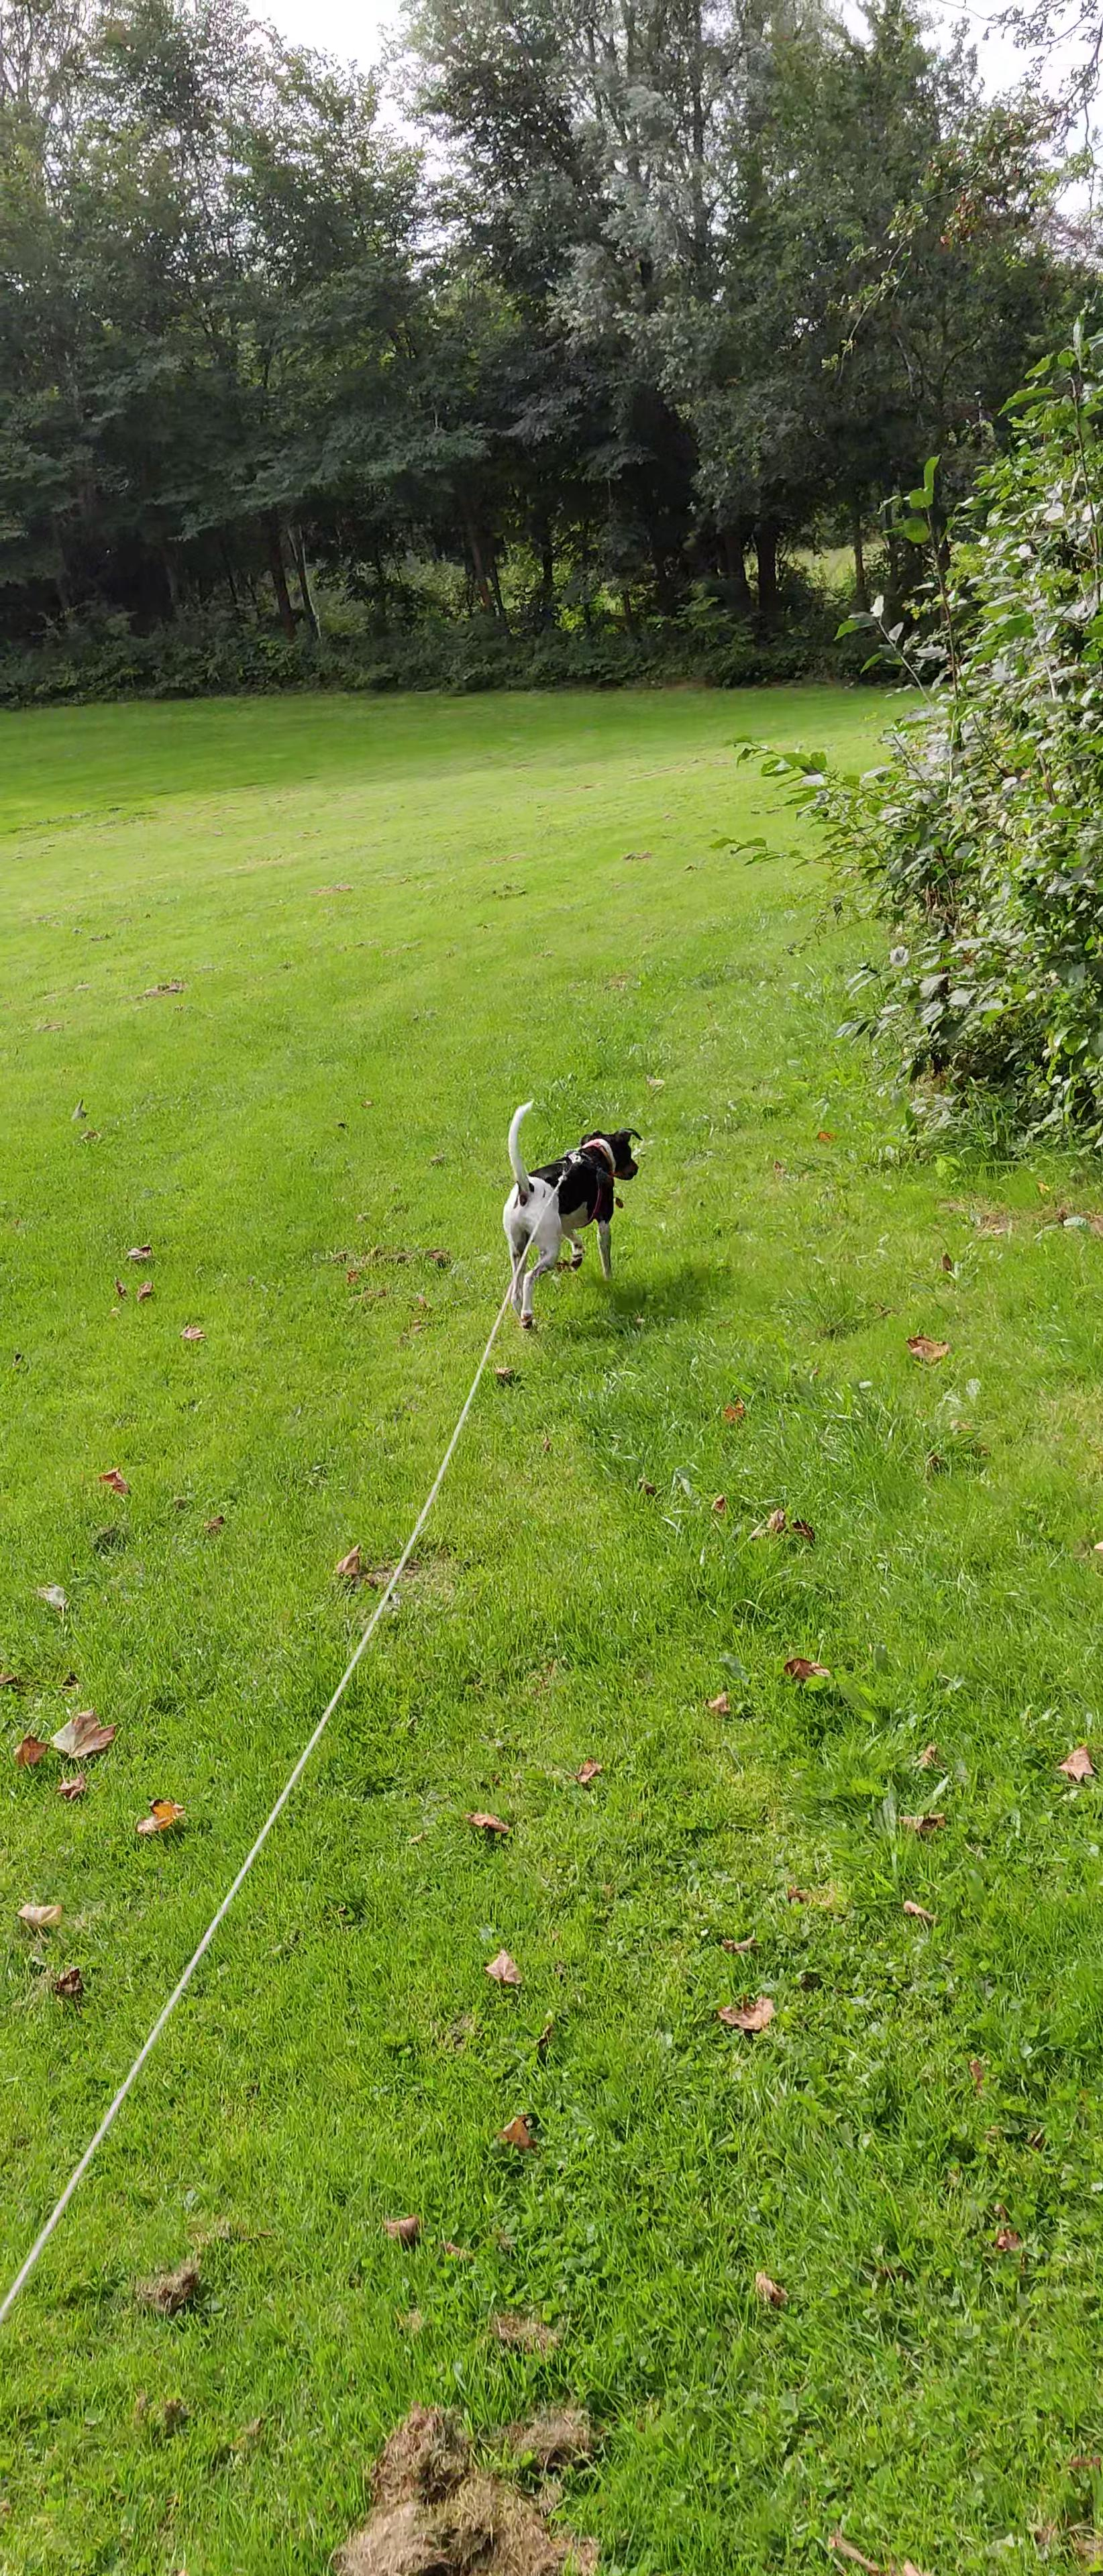Dog: (498, 1094, 649, 1332)
